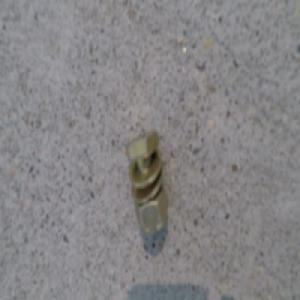BoltNutSet: (128, 130, 167, 229)
